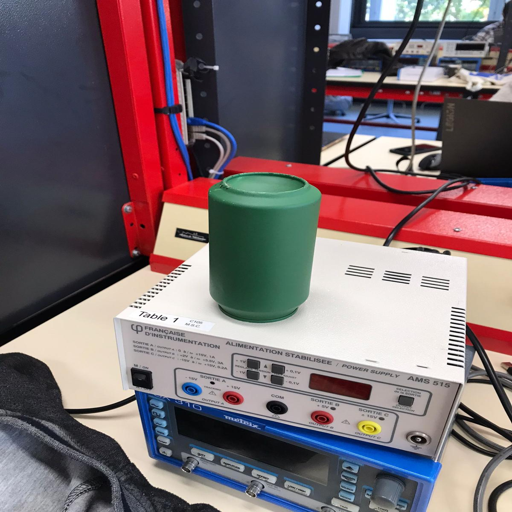Green_Can: (205, 168, 321, 325)
